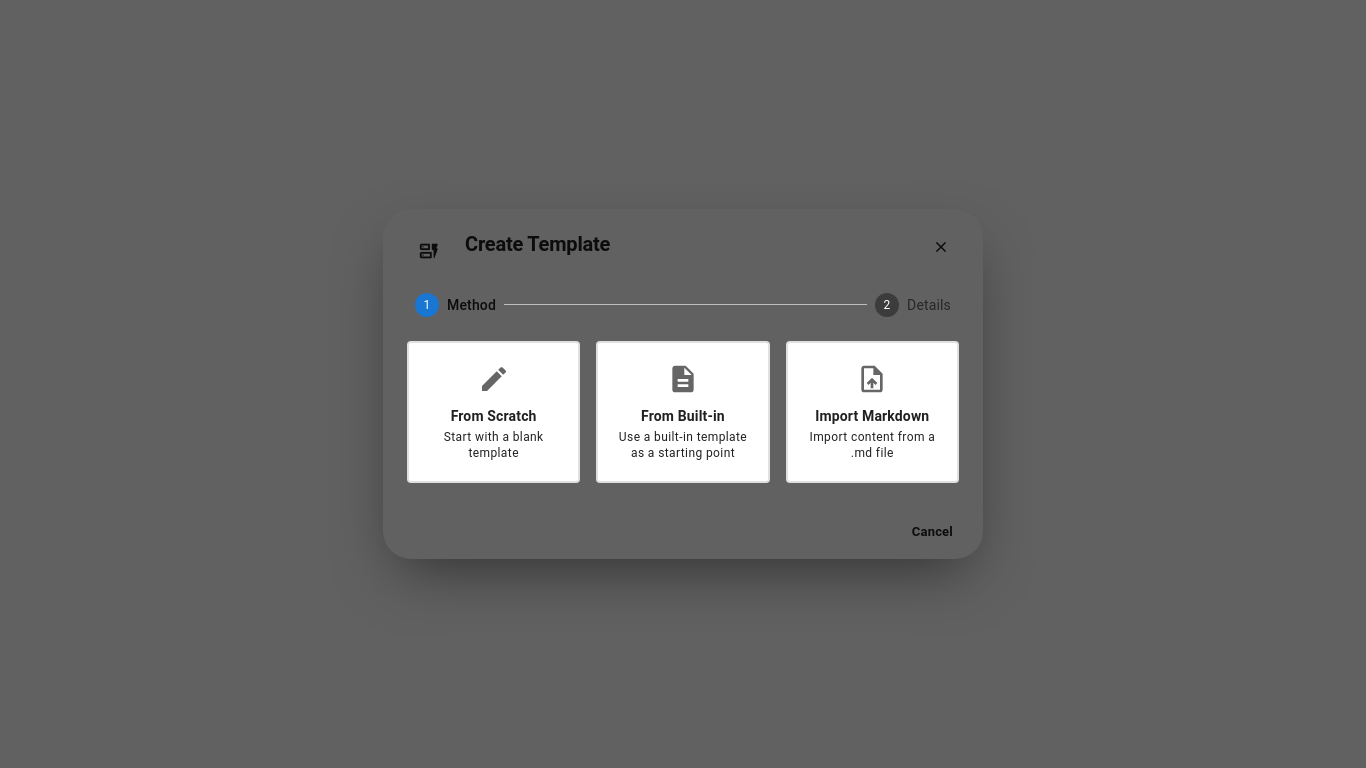
Test case: CreateTemplateWizard › returns to the method step on back
This screenshot has width=1366, height=768.
Click the text "From Scratch".
click(494, 416)  # box [451,406,537,426]
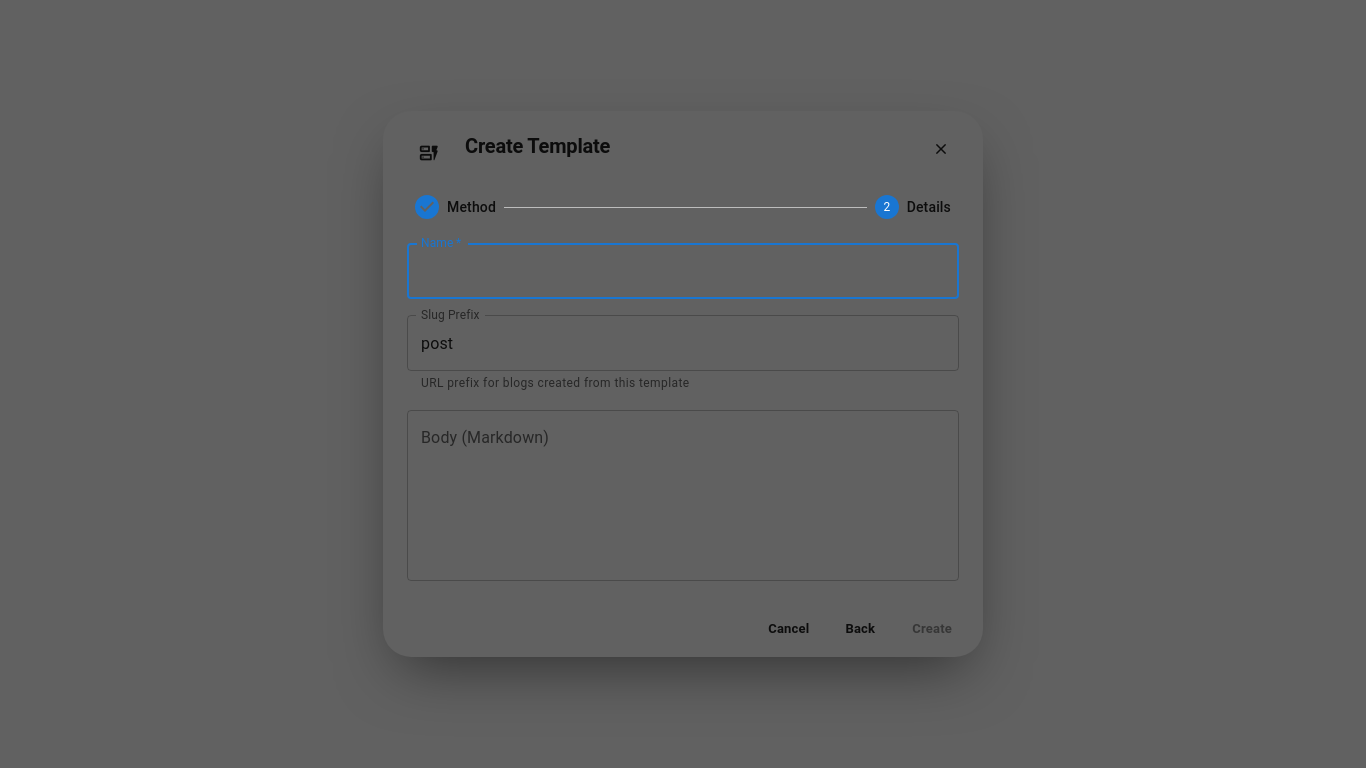
Click the button "Back".
click(860, 629)  # box [831,613,889,645]
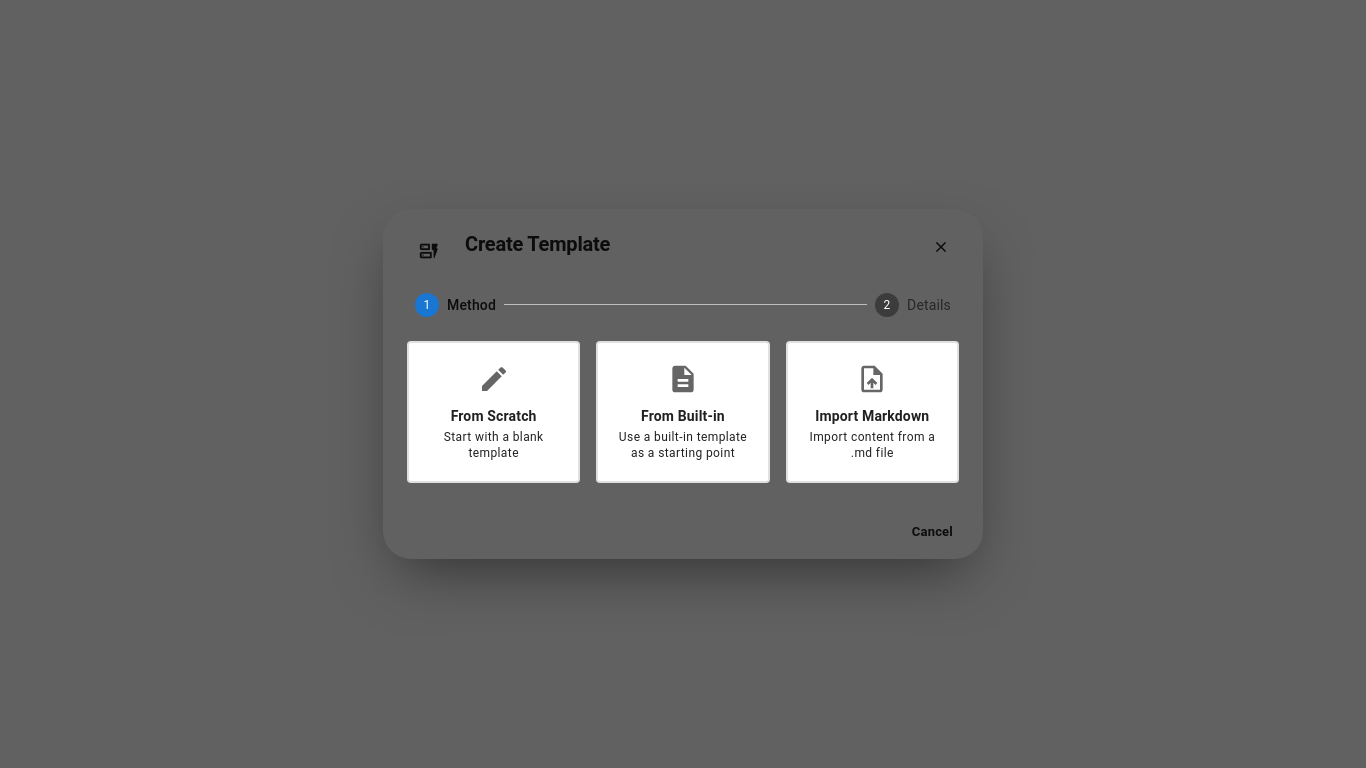
Check: the text "From Built-in" is shown, box [641,406,725,426]
Check: the button "Back" is gone
